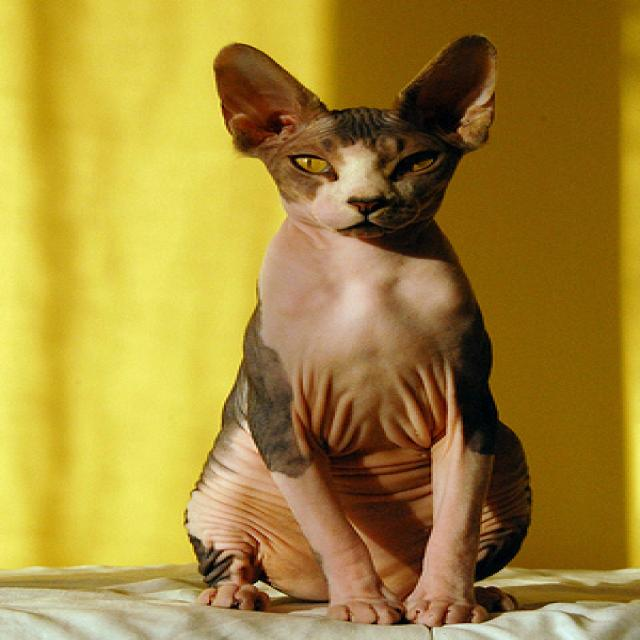Sphynx: (177, 33, 538, 631)
